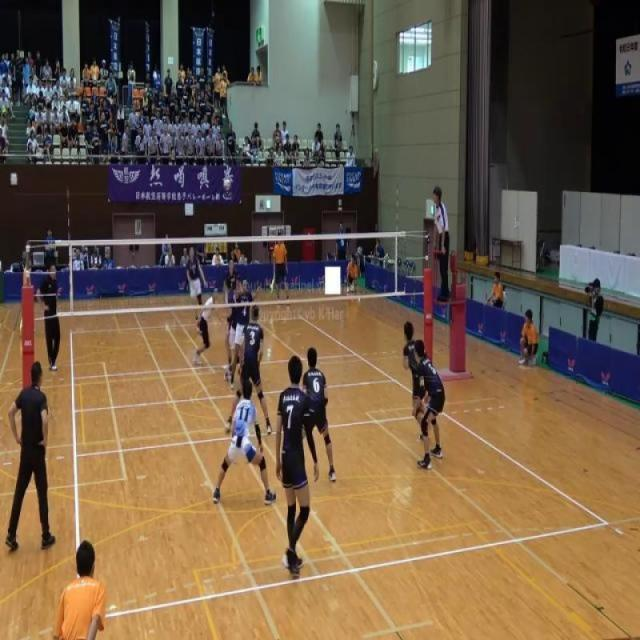volleyball: (223, 178, 231, 190), (350, 284, 355, 292)
